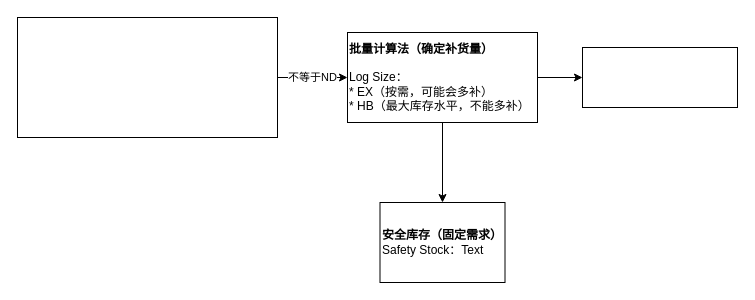
The diagram is 755 pixels wide and 300 high, and some of its shapes have lost their labels. The shapes that lost their labels are listed below. From the top down, each one's centre as x and y in pixels, then its label:
(147,77): 计划过程（确定订购点／是否执行计划） MRP Tpye： * ND （无计划） * VB（人工重订购点计划， 包含安全库存 ） * PD（物料需求计划）
(660,77): 批量限制（确定采购批次） Minimum Lot Size Maximum Lot Size
